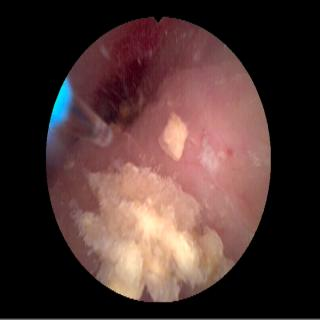fiber: (51, 81, 70, 125)
stone: (78, 164, 227, 301), (158, 114, 188, 161)
tissue: (54, 21, 265, 268)
